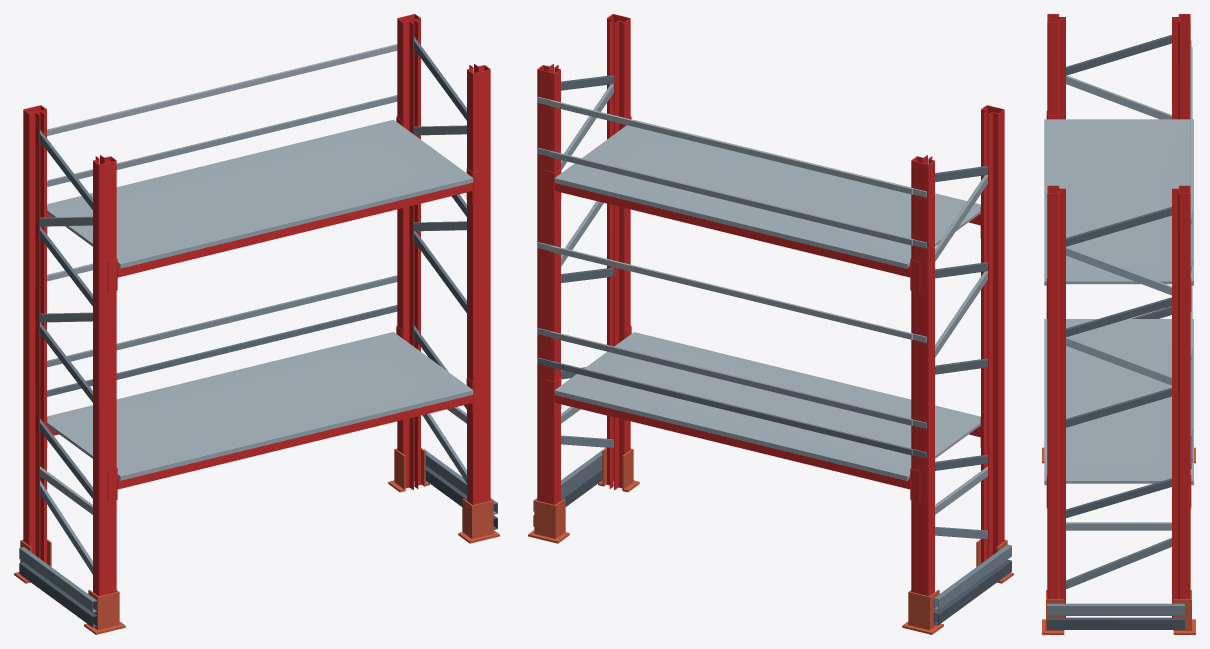
The model's file is SM_ShelfEmptyx1_Red_B.fbx.
3 views of the same model, side by side, from view 1: azimuth 30°, elevation 25°; view 2: azimuth 150°, elevation 25°; view 3: azimuth 270°, elevation 25° (orthographic). The views are drawn at different scales.
Visible parts, largest first — view 1: SM_ShelfEmptyx1_Red_B; view 2: SM_ShelfEmptyx1_Red_B; view 3: SM_ShelfEmptyx1_Red_B.
Part boxes in pixels (x1,y1,x2,y2): SM_ShelfEmptyx1_Red_B: [14, 14, 499, 634]; SM_ShelfEmptyx1_Red_B: [528, 14, 1013, 634]; SM_ShelfEmptyx1_Red_B: [1042, 14, 1195, 634].
Bounding box in the file's own units: 336 × 370 × 118.
